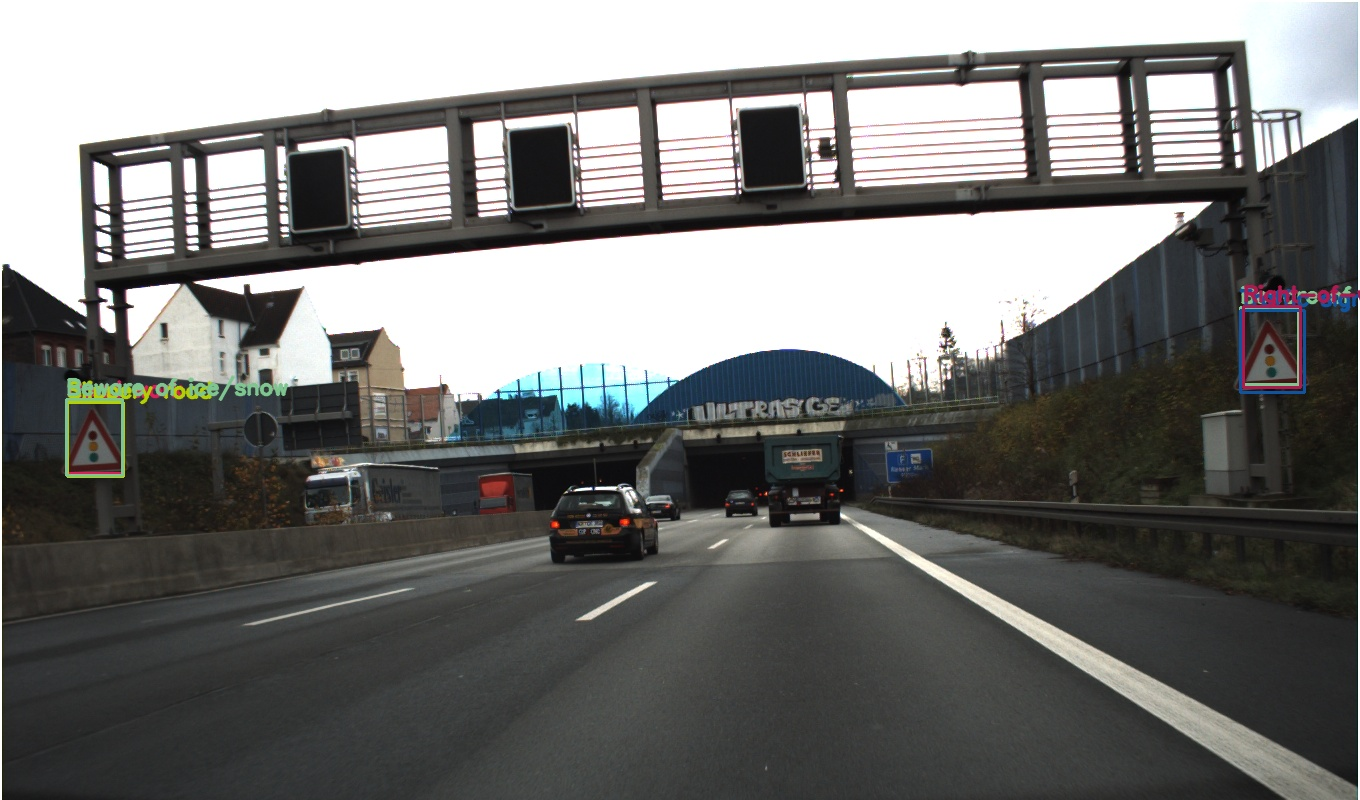No passing: (966, 430, 990, 454)
